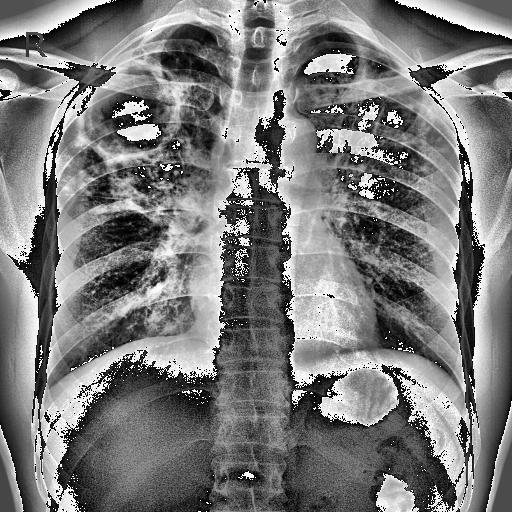13- Pulmonary fibrosis: (54, 41, 222, 208), (65, 28, 199, 230), (52, 48, 198, 214), (306, 48, 450, 177), (365, 44, 455, 166), (372, 49, 452, 171)
6- Infiltration: (54, 41, 222, 208), (306, 48, 450, 177)
9- Other lesion: (376, 103, 431, 142)
